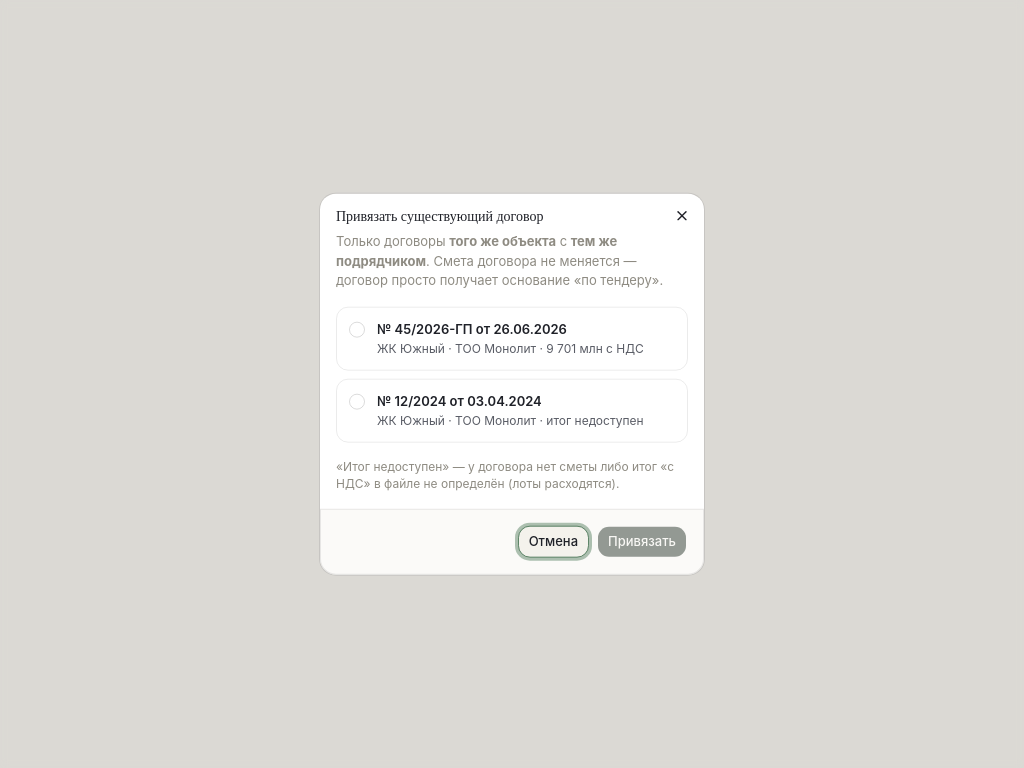
Scenario: LinkContractDialog › пока привязка уходит на сервер, «Привязать» недоступна
Click the radio button named "№ 12/2024" next to "12/2024" at (357, 402), box [349, 394, 365, 410]
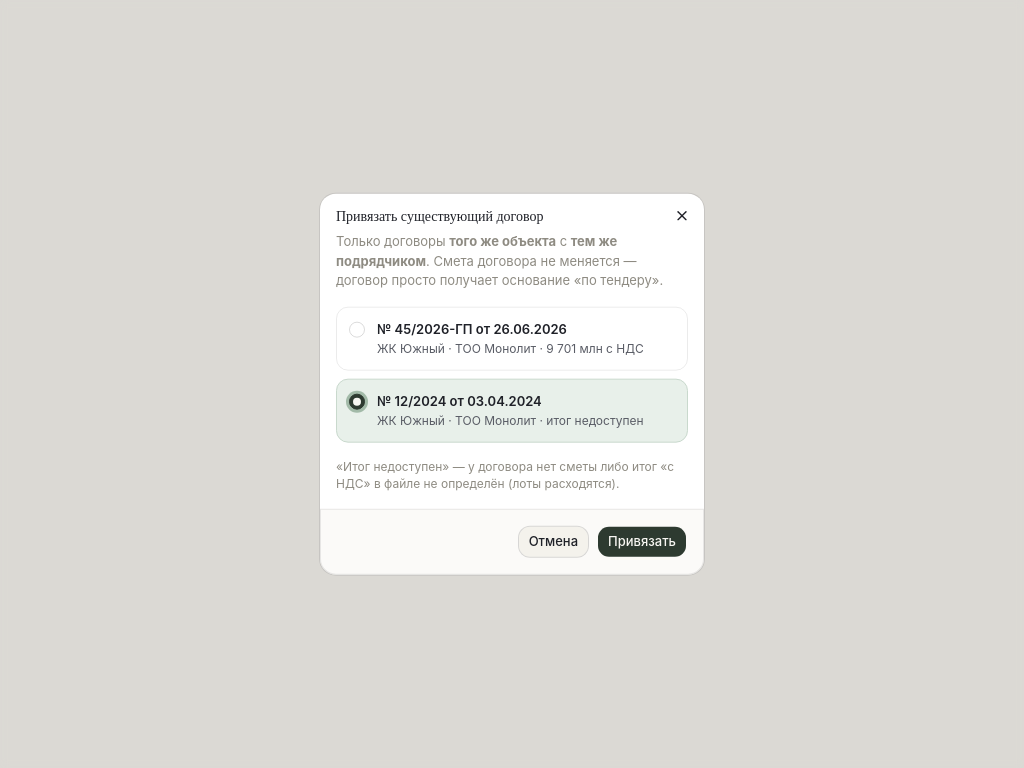
Click the button "Привязать" at (642, 541), box [597, 525, 687, 557]
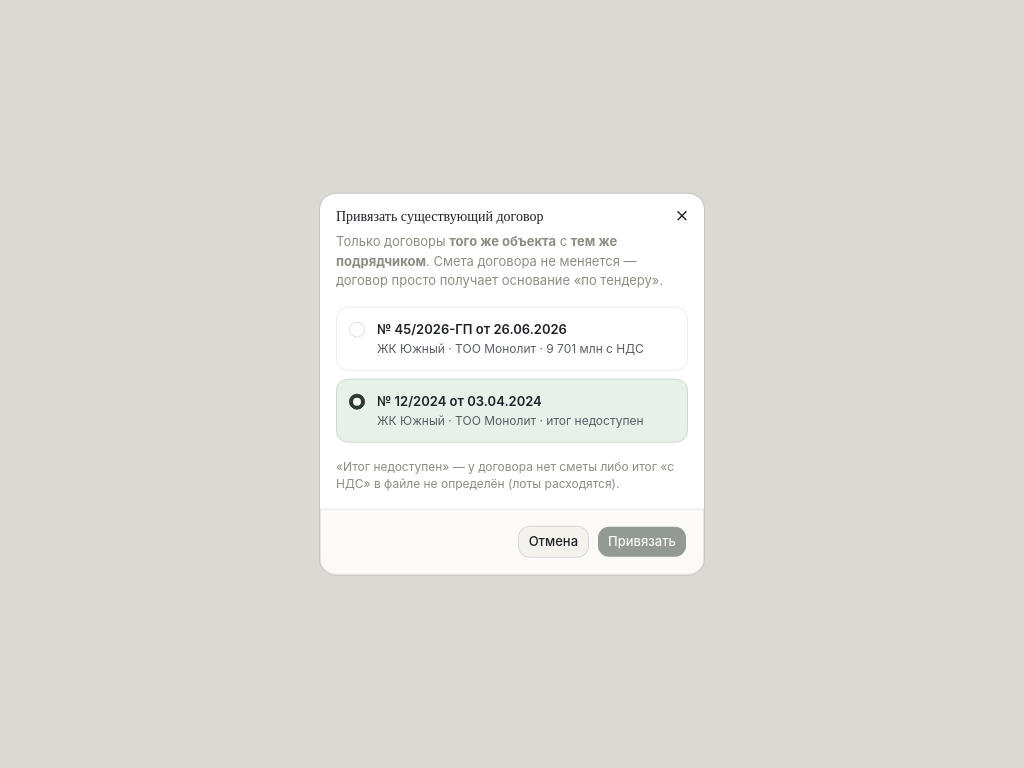
Result: the button "Привязать" is disabled at [597, 525, 687, 557]
